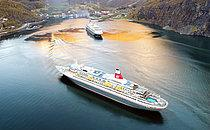Ship: (52, 60, 173, 118), (83, 20, 107, 40)
